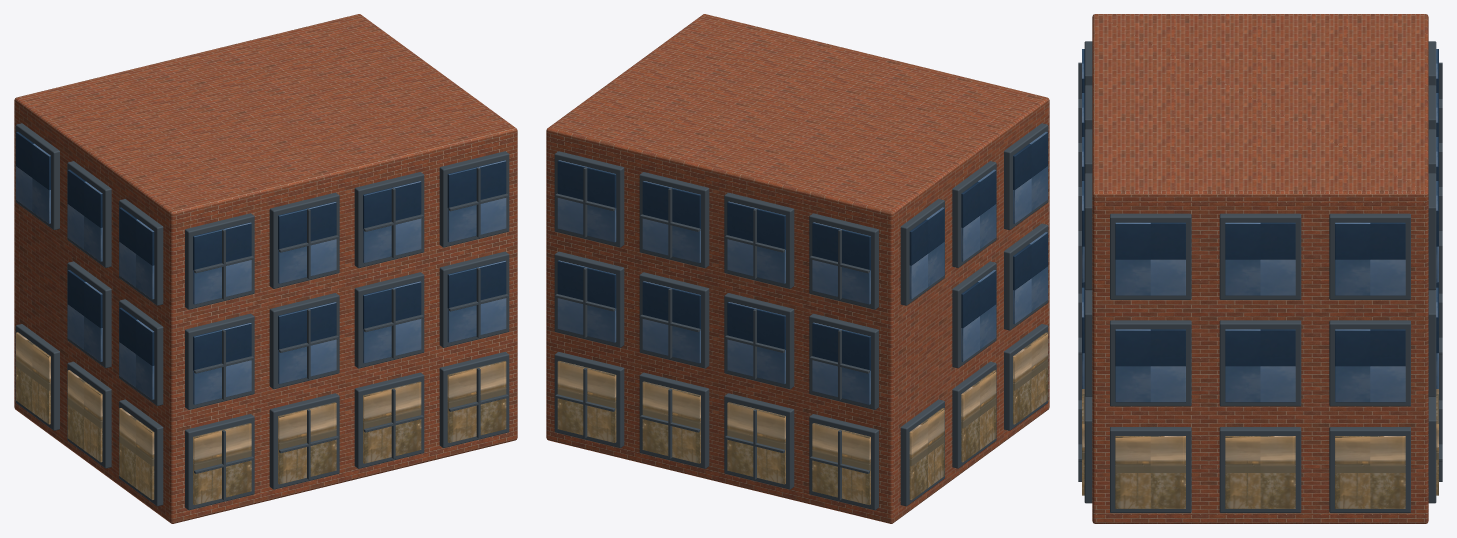
The model's file is body.glb.
The picture shows the model from 3 angles, left to right: view 1: azimuth 30°, elevation 25°; view 2: azimuth 150°, elevation 25°; view 3: azimuth 270°, elevation 25°; orthographic projection. The views are drawn at different scales.
Visible parts, largest first — view 1: body; view 2: body; view 3: body.
Part boxes in pixels (left/top/right/bottom): body: left=14, top=14, right=517, bottom=523; body: left=546, top=14, right=1049, bottom=523; body: left=1078, top=14, right=1442, bottom=523.
Size of the model in its own units: 3.99 by 3.27 by 3.26.
Materials: 4 (3 with a texture image).
